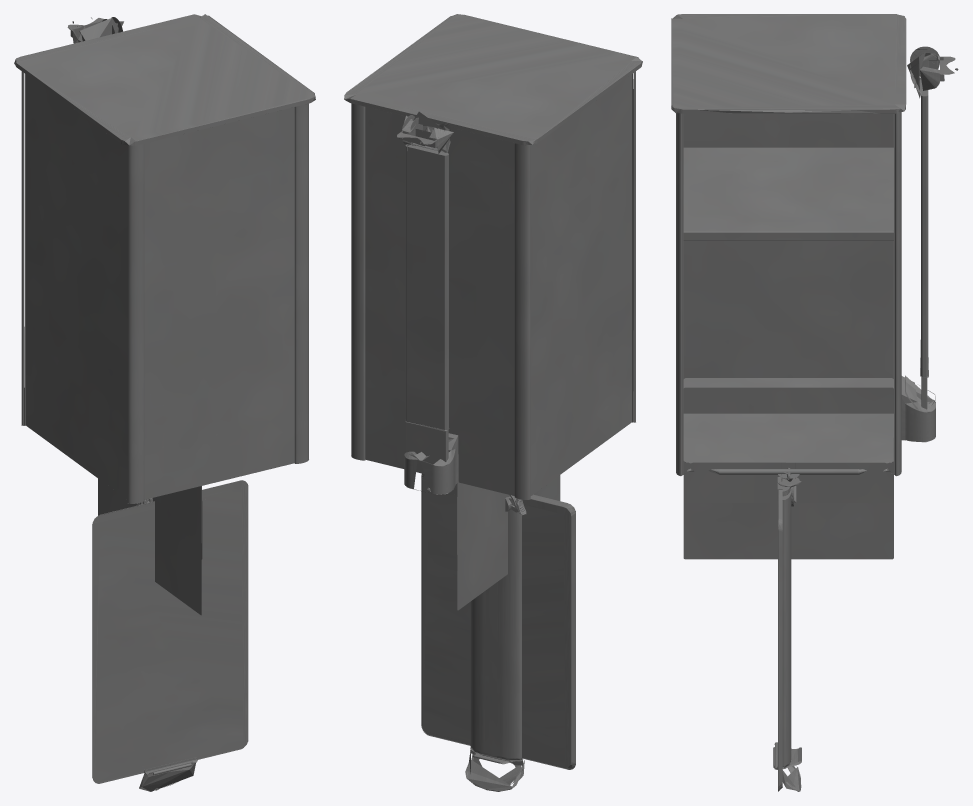
File: table_bedside_b01.glb
3 views of the same model, side by side, from view 1: azimuth 30°, elevation 25°; view 2: azimuth 150°, elevation 25°; view 3: azimuth 270°, elevation 25° (orthographic). The views are drawn at different scales.
Parts seen in each view (by area): view 1: geometry_0; view 2: geometry_0; view 3: geometry_0.
Boxes of the visible parts, x1,y1,x2,y2 form: geometry_0: (14,14,315,791); geometry_0: (344,14,642,791); geometry_0: (671,14,958,791).
Size of the model in its own units: 0.1181 by 0.42 by 0.1487.
1 material, 1 textured.
